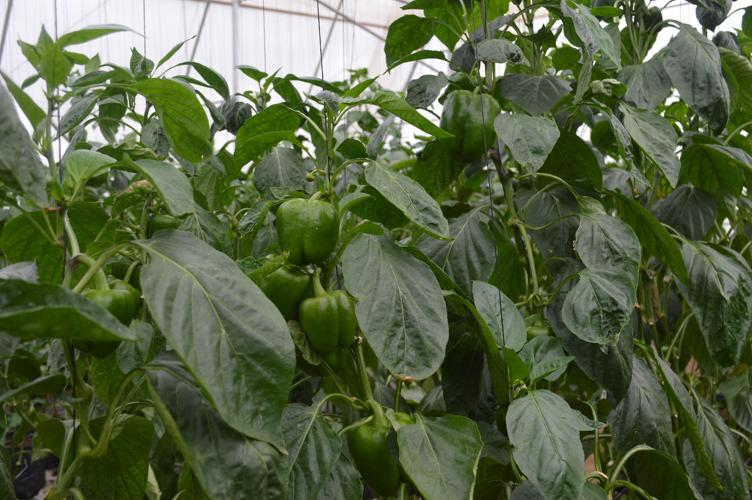BellPepper: (343, 412, 443, 499), (231, 239, 309, 336), (428, 86, 511, 168), (69, 272, 150, 354), (261, 193, 346, 268), (294, 287, 377, 362)
